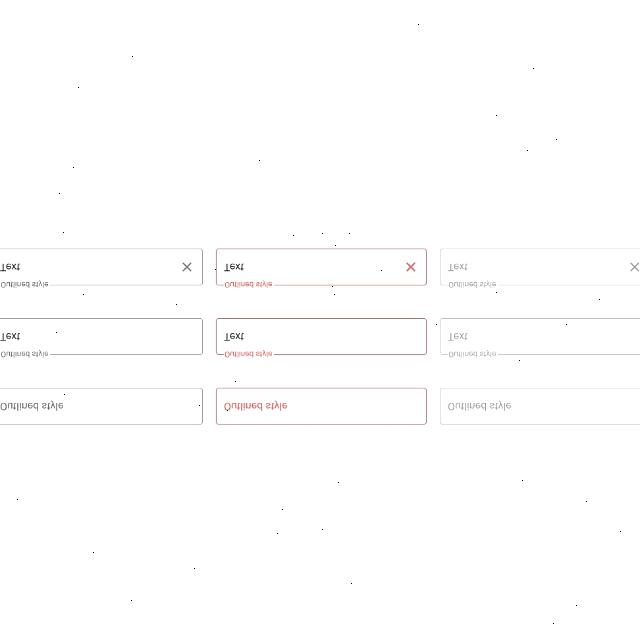VTextField: (215, 318, 428, 360), (0, 317, 204, 359), (215, 248, 428, 288), (438, 318, 640, 360), (215, 388, 427, 427), (0, 248, 204, 288), (438, 388, 640, 428), (438, 248, 640, 288), (0, 388, 204, 426)
